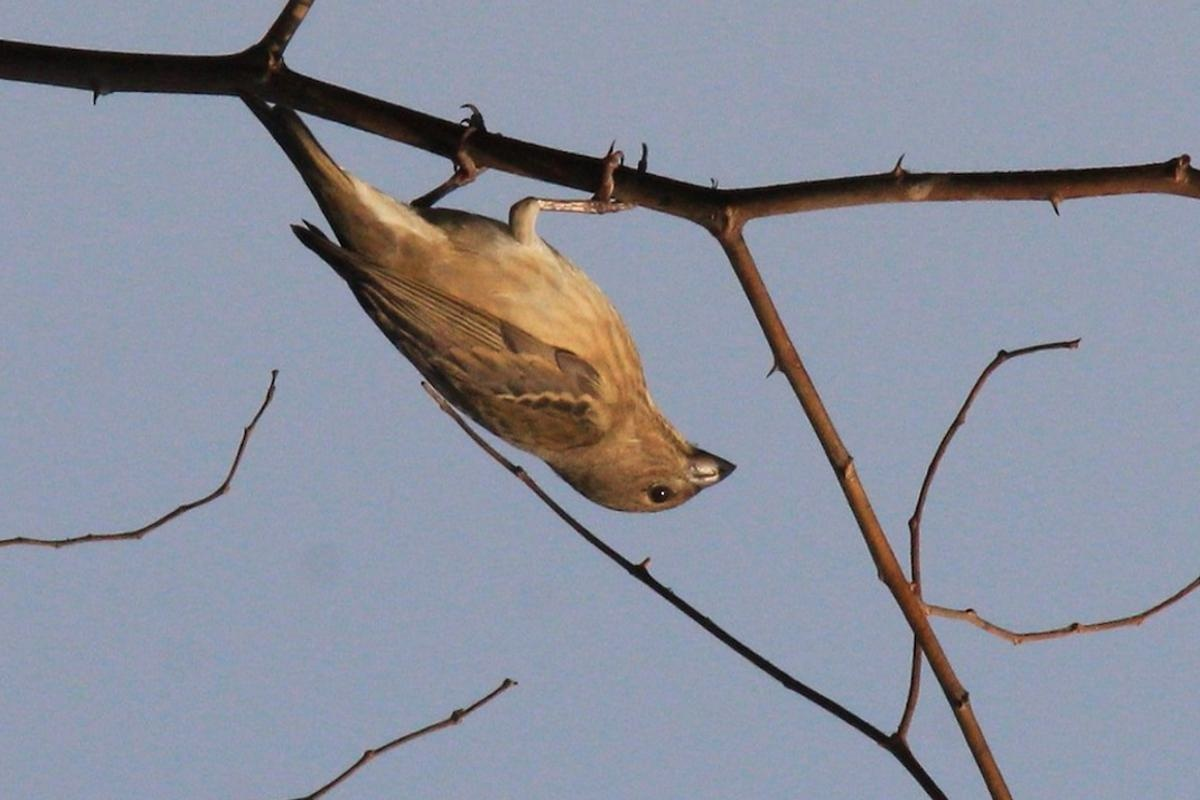rosefinch: (291, 106, 760, 532)
